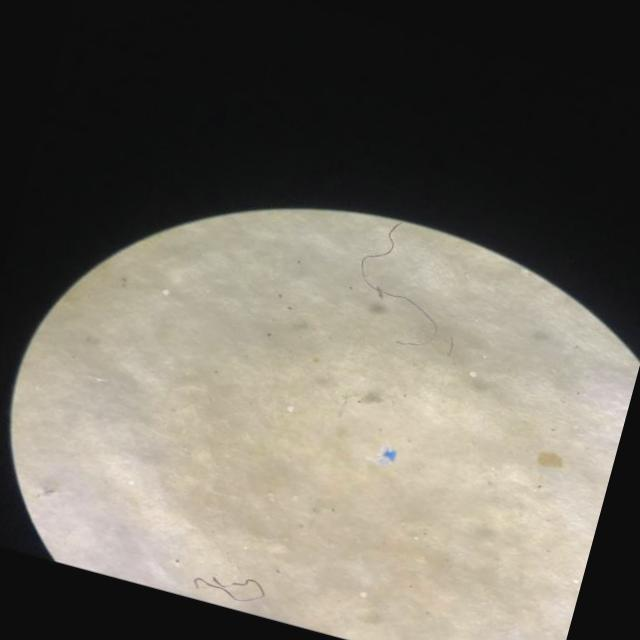fiber: (359, 220, 435, 329), (194, 576, 263, 602)
film: (377, 448, 395, 464)
fragment: (536, 451, 562, 466)
pellet: (468, 370, 476, 377), (358, 591, 367, 597), (286, 405, 294, 411), (127, 479, 134, 485), (162, 287, 167, 294)
